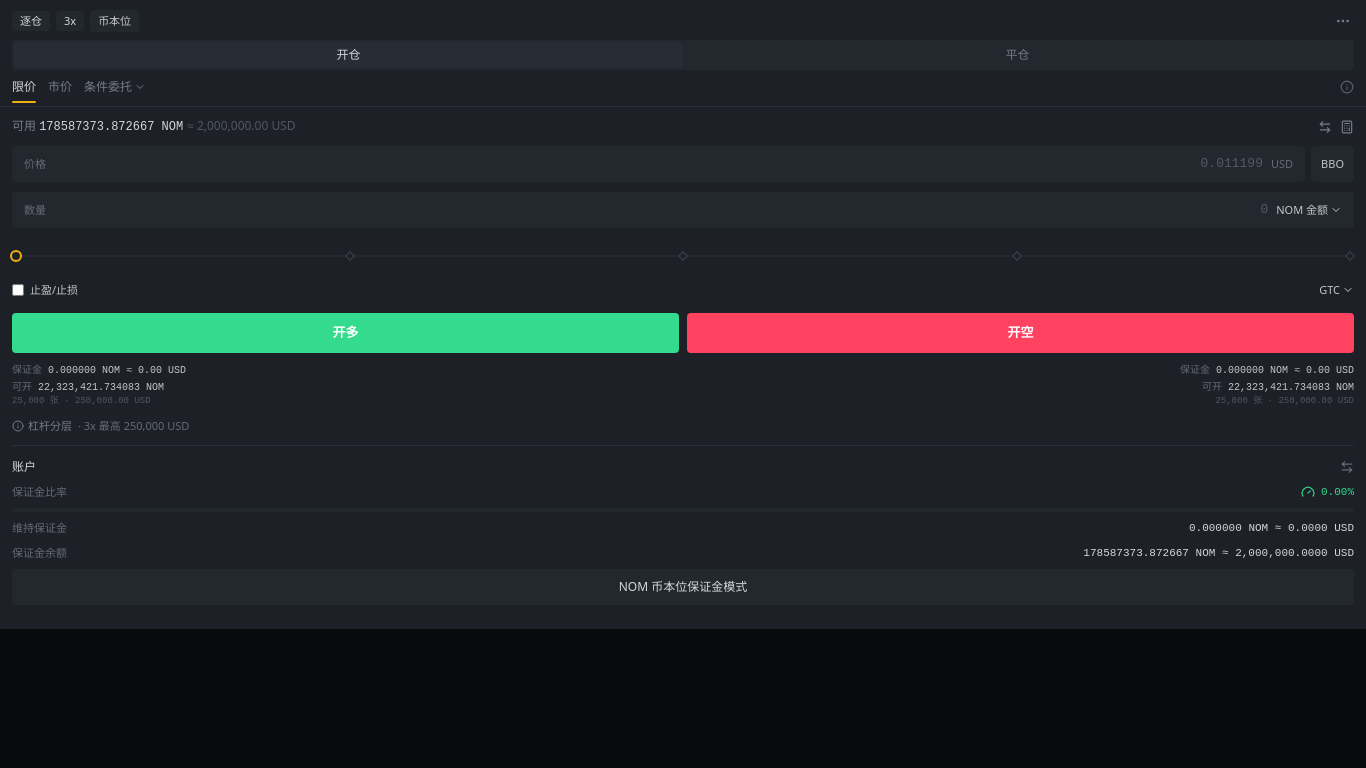
it: 随单下达的止盈止损 › TWAP 不给勾选止盈止损
Click the button with test id "advanced-type-slot" at (115, 90), box [84,78,146,102]
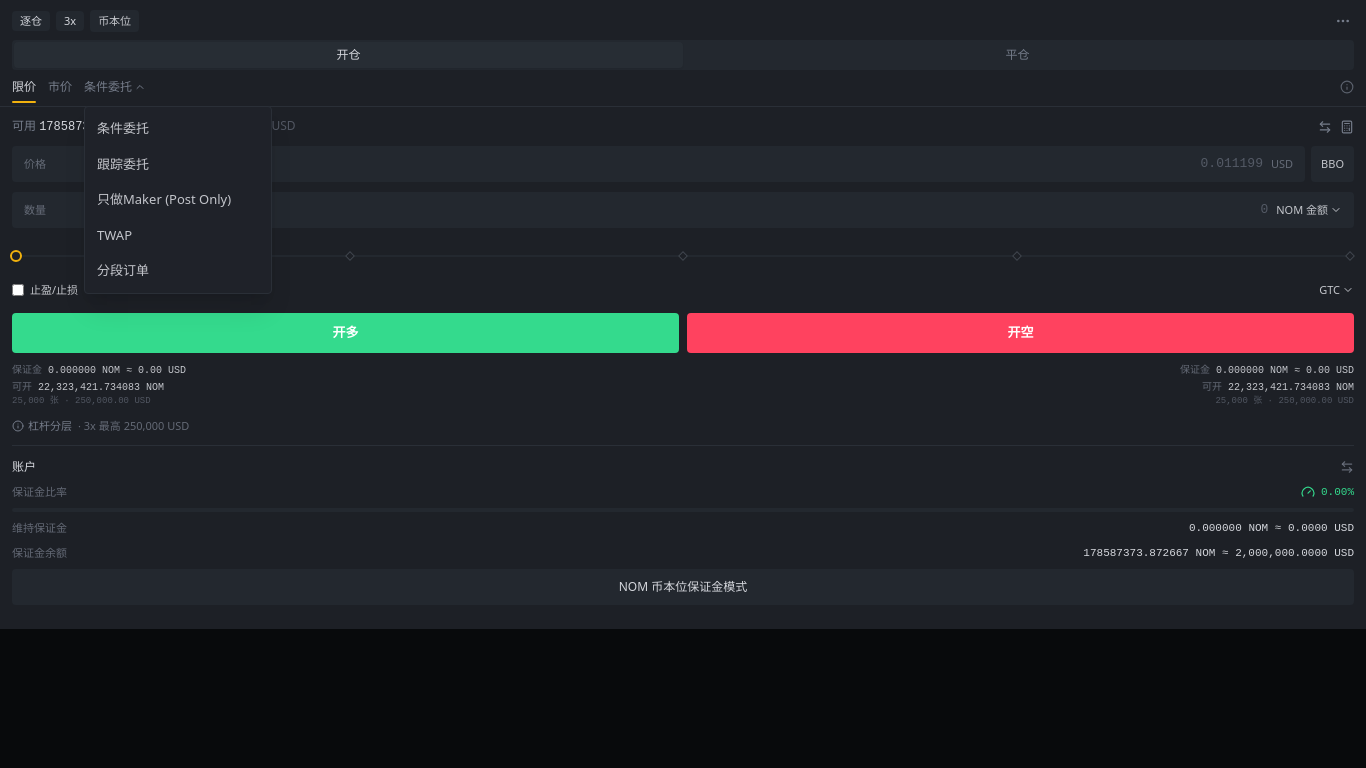
Click the button "TWAP" at (178, 235), box [85,218,271,253]
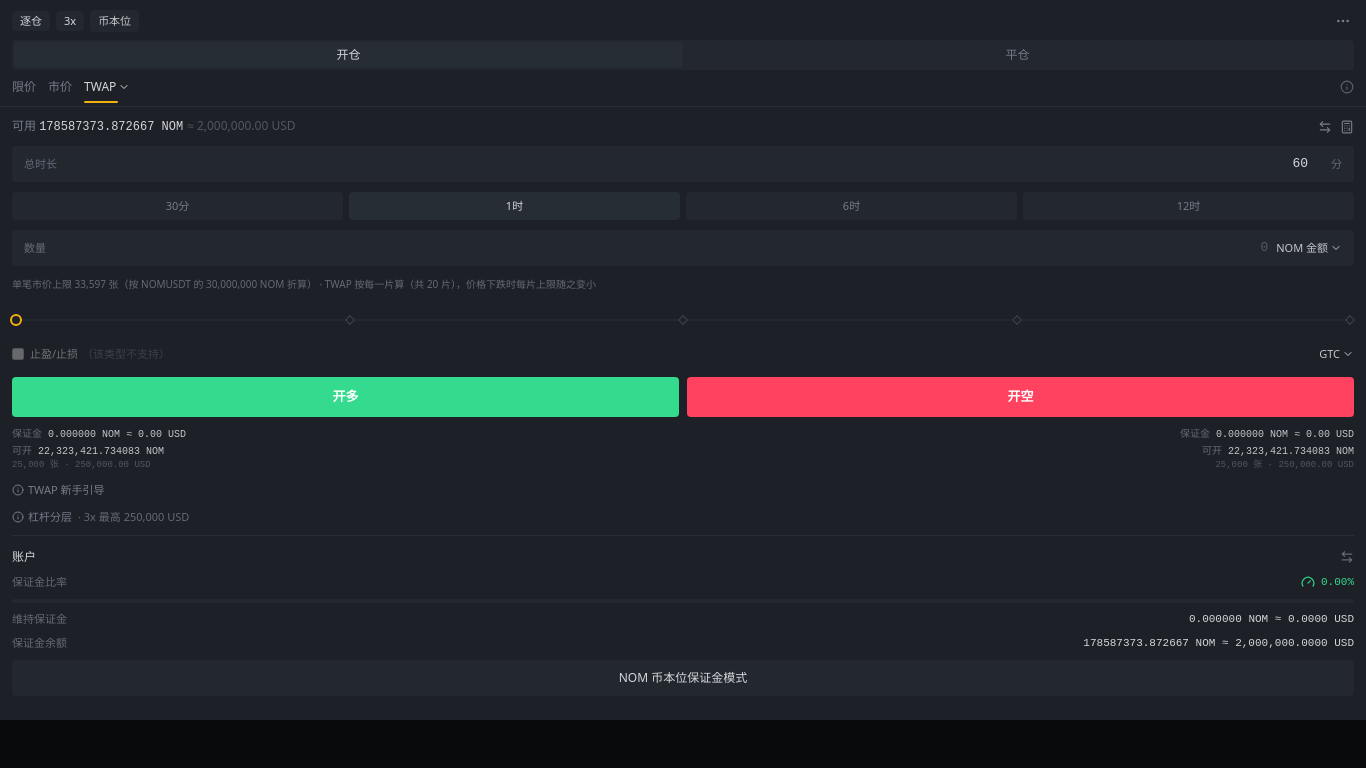
Expected: the checkbox with test id "enable-tpsl" is disabled, [12,348,24,360]
Expected: the text "（该类型不支持）" is shown, [82,346,170,361]
